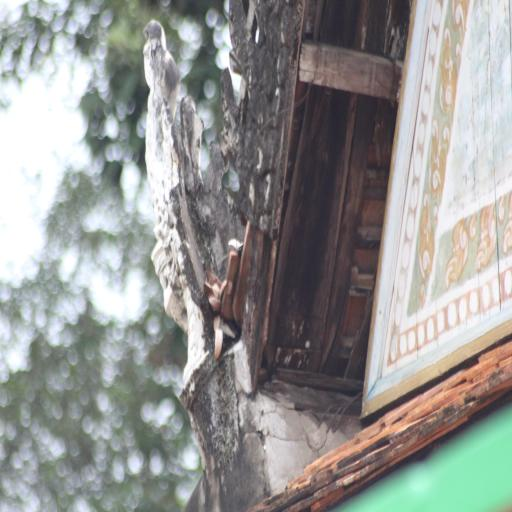lua: (436, 22, 461, 112), (444, 212, 474, 286), (473, 204, 503, 274), (425, 117, 447, 195), (416, 204, 434, 284)
